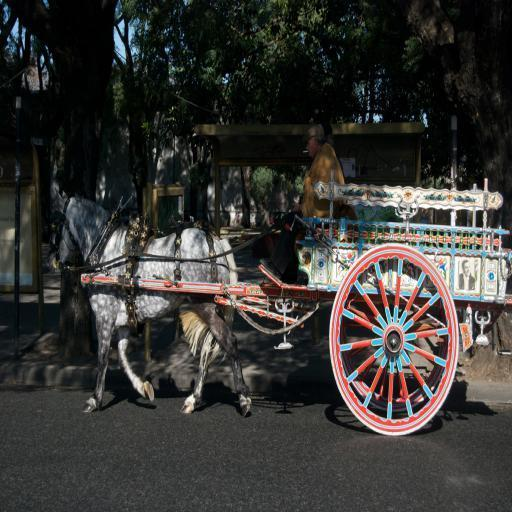horse: (48, 190, 254, 422)
